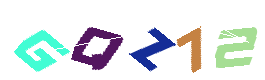2: (184, 0, 264, 80)
7: (151, 0, 231, 80)
G: (0, 0, 80, 80)
Q: (78, 0, 158, 80)
Z: (91, 0, 171, 80)
